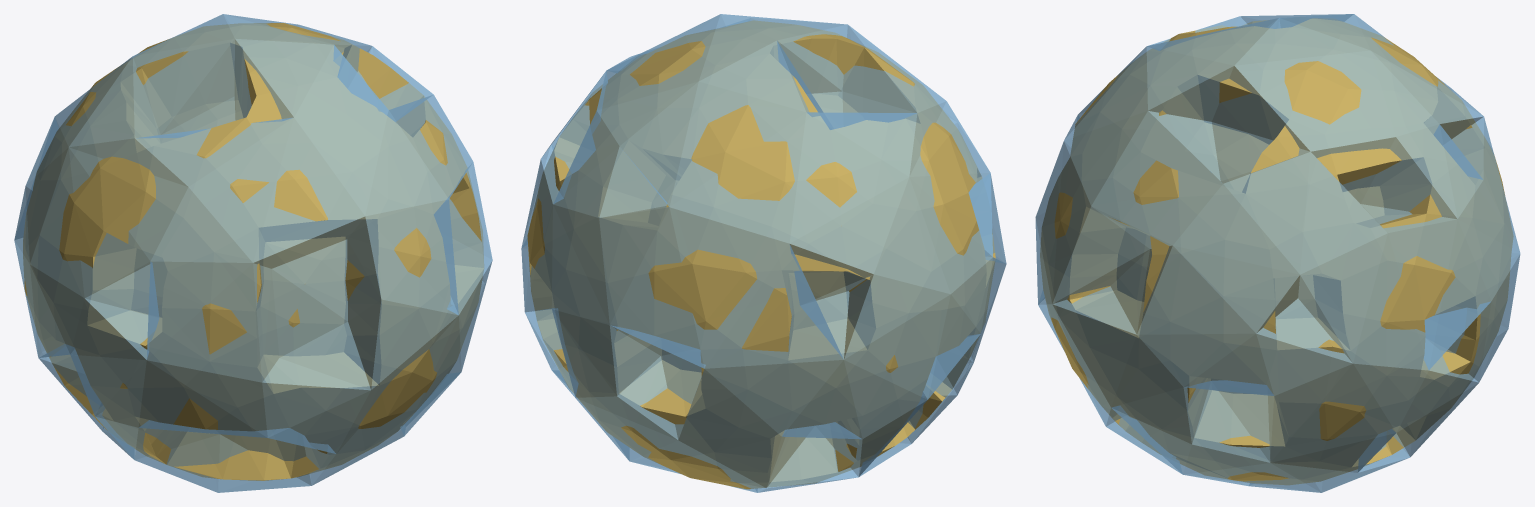
File: water_planet8.fbx
3 renders of one model, left to right at view 1: azimuth 30°, elevation 25°; view 2: azimuth 150°, elevation 25°; view 3: azimuth 270°, elevation 25°, orthographic. The views are drawn at different scales.
Parts seen in each view (by area): view 1: water_planet8; view 2: water_planet8; view 3: water_planet8.
Boxes of the visible parts, x1=… form: water_planet8: x1=14, y1=14, x2=492, y2=492; water_planet8: x1=521, y1=14, x2=1006, y2=492; water_planet8: x1=1035, y1=14, x2=1520, y2=492.
Size of the model in its own units: 207 by 206 by 205.
